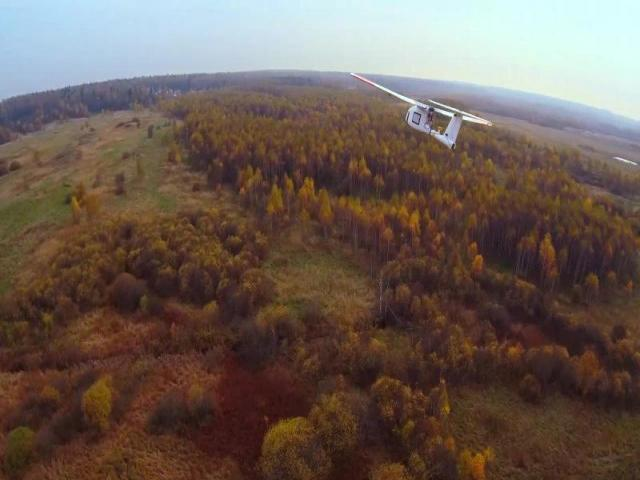hedef: (341, 66, 520, 166)
